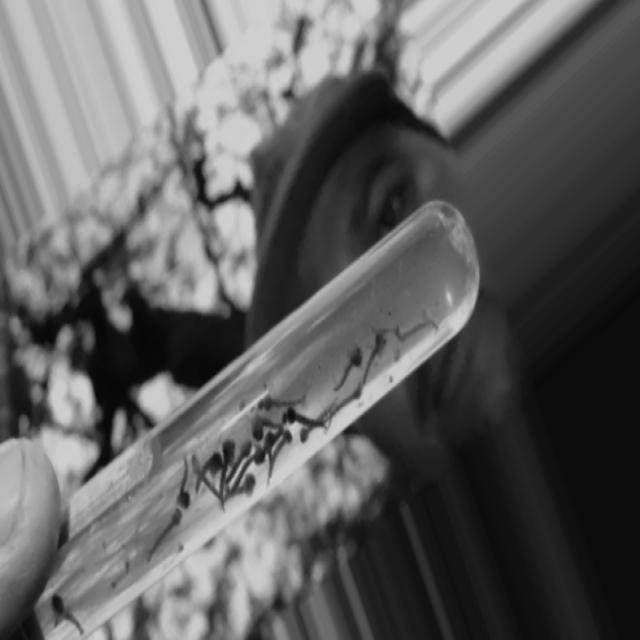larvas: (299, 399, 337, 446), (230, 444, 263, 495), (190, 451, 222, 500), (149, 510, 182, 556), (192, 447, 225, 493), (219, 439, 238, 513), (226, 438, 254, 488), (393, 310, 438, 340), (335, 344, 362, 390), (51, 594, 84, 631), (228, 470, 258, 507), (175, 452, 191, 508), (365, 335, 385, 373), (284, 411, 324, 428), (334, 388, 361, 412), (251, 414, 278, 438), (255, 398, 309, 408), (274, 433, 291, 458), (265, 431, 274, 478)
